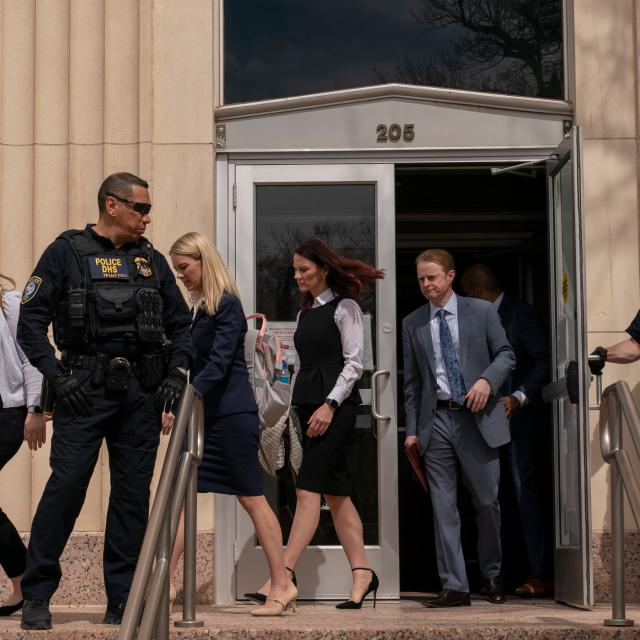police: (7, 134, 184, 632)
